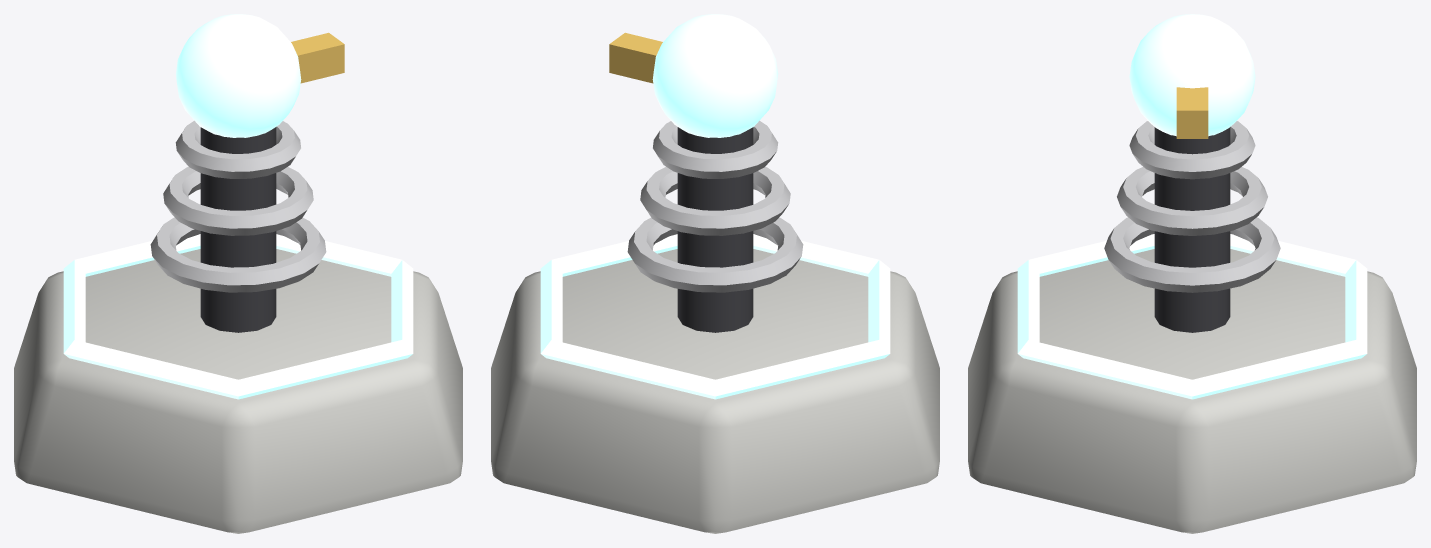
The model's file is turret_rob.glb.
3 views of the same model, side by side, from view 1: azimuth 30°, elevation 25°; view 2: azimuth 150°, elevation 25°; view 3: azimuth 270°, elevation 25° (orthographic).
Visible parts, largest first — view 1: turret_rob, gun_m; view 2: turret_rob, gun_m; view 3: turret_rob, gun_m.
Boxes of the visible parts, x1,y1,x2,y2 form: turret_rob: [14, 234, 462, 533]; gun_m: [150, 14, 344, 332]; turret_rob: [491, 234, 939, 533]; gun_m: [609, 14, 803, 332]; turret_rob: [968, 234, 1416, 533]; gun_m: [1104, 14, 1280, 332].
Bounding box in the file's own units: 0.8057 × 0.72 × 0.7117.
